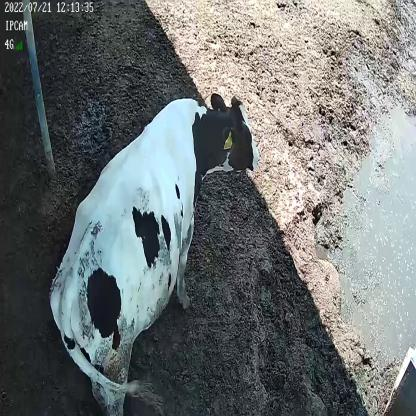cow: (48, 89, 259, 416)
